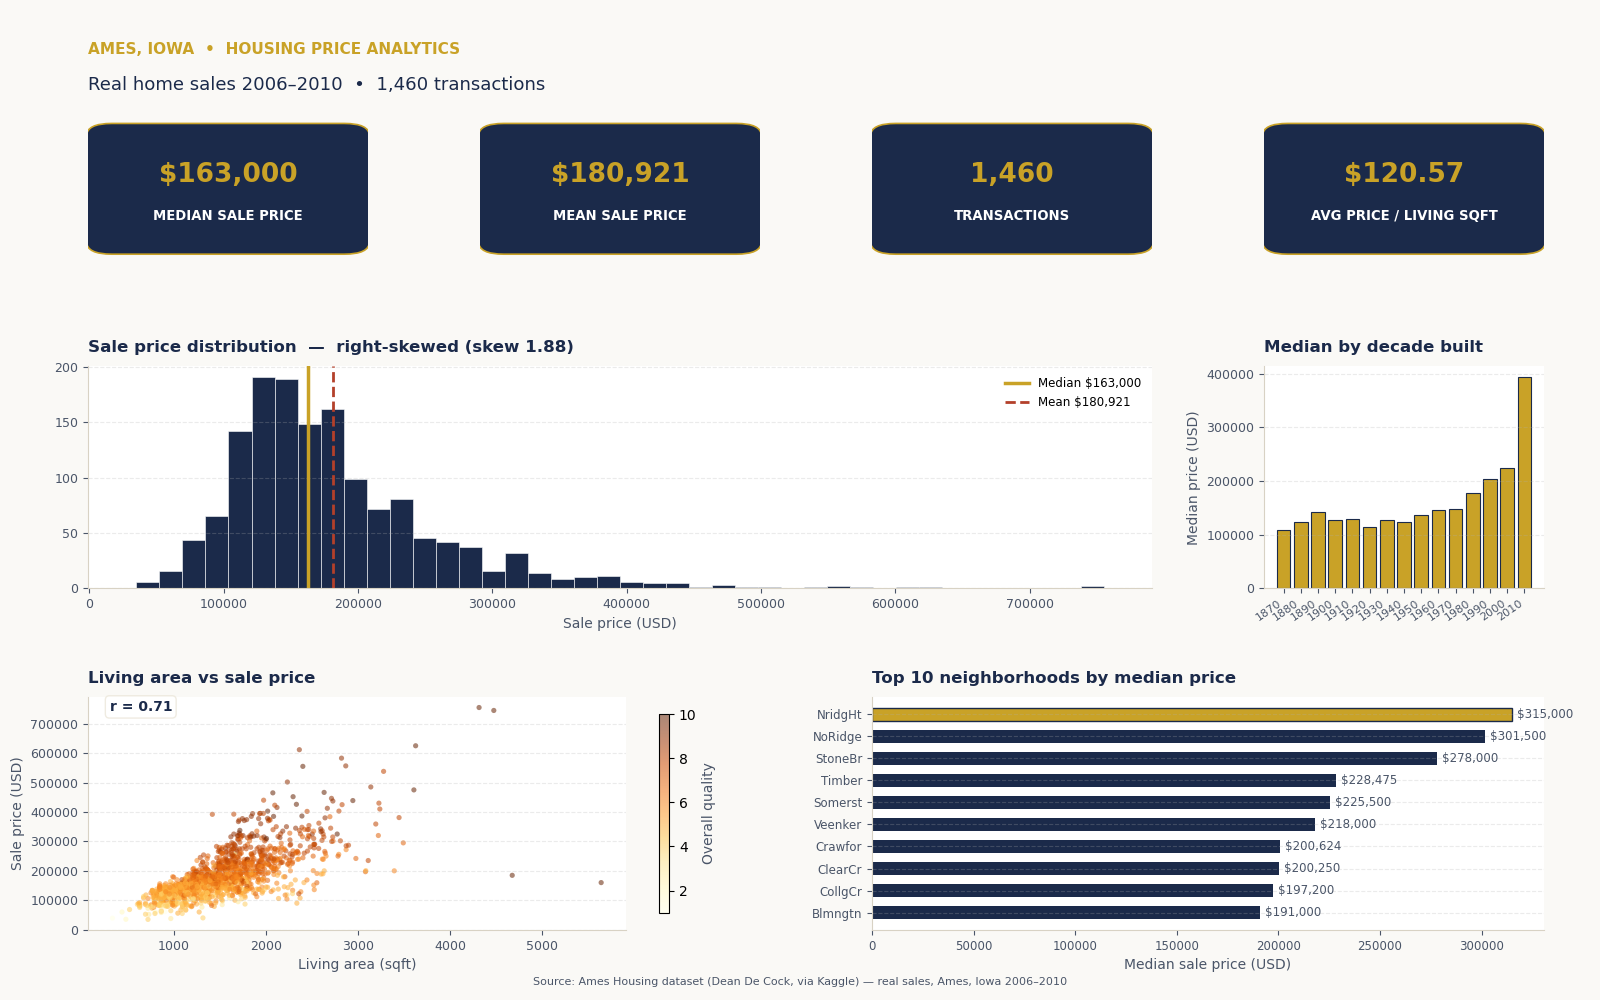

The dashboard page shown, as its layout file describes it:
{"tool":"powerbi","page":{"name":"الصفحة 1","canvas":[1920,1080],"ordinal":0},"visuals":[{"type":"textbox","box":[0,0,1280,70],"z":0},{"type":"cardVisual","fields":{"Data":["Median(Ames Housing.SalePrice)"]},"box":[20,90,400,110],"z":1},{"type":"clusteredBarChart","title":"Top 10 Neighborhoods by Median SalePrice","fields":{"Category":["Ames Housing.Neighborhood"],"Y":["Median(Ames Housing.SalePrice)"]},"box":[20,310,610,190],"z":2},{"type":"cardVisual","fields":{"Data":["CountNonNull(Ames Housing.Id)"]},"box":[860,90,400,110],"z":3},{"type":"cardVisual","fields":{"Data":["Avg(Ames Housing.SalePrice)"]},"box":[440,90,400,110],"z":4},{"type":"clusteredColumnChart","title":"Average SalePrice by Year Built","fields":{"Category":["Ames Housing.YearBuilt"],"Y":["Avg(Ames Housing.SalePrice)"]},"box":[650,310,610,190],"z":5},{"type":"scatterChart","title":"Living Area vs Sale Price by Overall Quality","fields":{"Series":["Ames Housing.OverallQual"],"X":["Ames Housing.GrLivArea"],"Y":["Ames Housing.SalePrice"]},"box":[20,520,1240,190],"z":6},{"type":"slicer","fields":{"Values":["Ames Housing.Neighborhood"]},"box":[20,220,400,70],"z":7}]}

Visuals, with their boxes on the page's 1920x1080 design canvas (x1, y1, x2, y2). These are canvas units, not pixel positions in the 1600x1000 screenshot, which may show the page scaled, cropped or inside an application window:
textbox: x1=0, y1=0, x2=1280, y2=70
cardVisual - Median(Ames Housing.SalePrice): x1=20, y1=90, x2=420, y2=200
"Top 10 Neighborhoods by Median SalePrice" clusteredBarChart: x1=20, y1=310, x2=630, y2=500
cardVisual - CountNonNull(Ames Housing.Id): x1=860, y1=90, x2=1260, y2=200
cardVisual - Avg(Ames Housing.SalePrice): x1=440, y1=90, x2=840, y2=200
"Average SalePrice by Year Built" clusteredColumnChart: x1=650, y1=310, x2=1260, y2=500
"Living Area vs Sale Price by Overall Quality" scatterChart: x1=20, y1=520, x2=1260, y2=710
slicer - Ames Housing.Neighborhood: x1=20, y1=220, x2=420, y2=290
